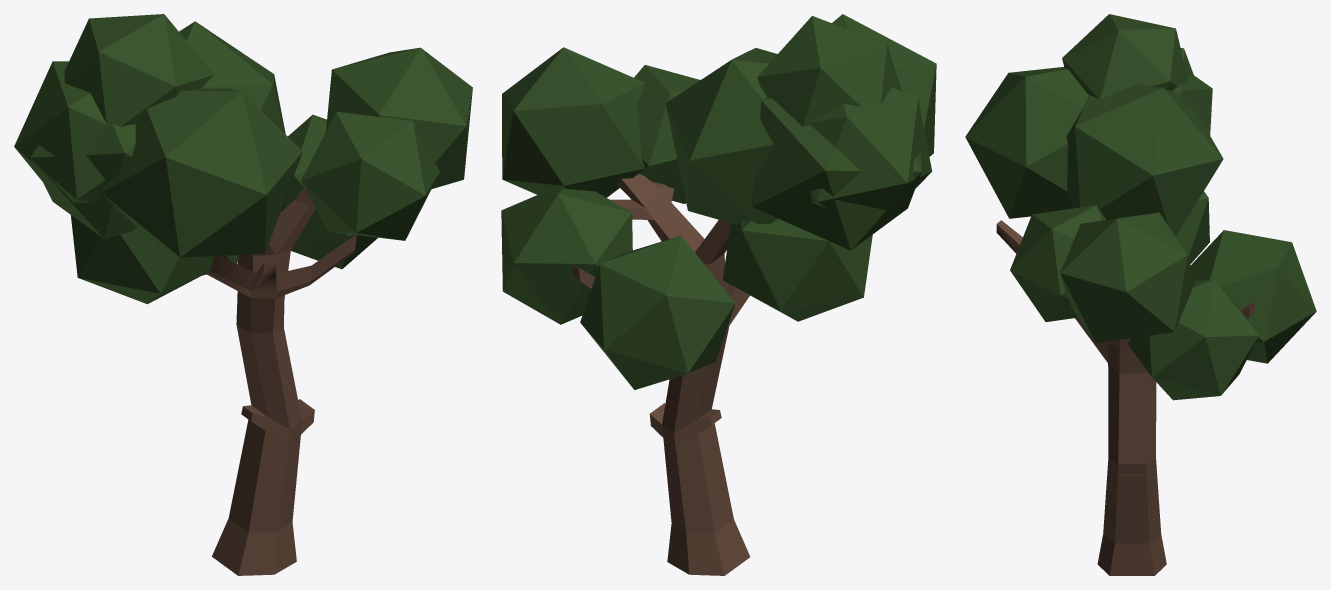
The model's file is n_m_tree02.fbx.
The picture shows the model from 3 angles, left to right: view 1: azimuth 30°, elevation 25°; view 2: azimuth 150°, elevation 25°; view 3: azimuth 270°, elevation 25°; orthographic projection. The views are drawn at different scales.
Visible parts, largest first — view 1: Cube.005|Icosphere.001|Dupli|3, Cube.005, Cube.005|Icosphere.001|Dupli|8, Cube.005|Icosphere.001|Dupli|1, Cube.005|Icosphere.001|Dupli|, Cube.005|Icosphere.001|Dupli|4, Cube.005|Icosphere.001|Dupli|9, Cube.005|Icosphere.001|Dupli|5, Cube.005|Icosphere.001|Dupli|2, Cube.005|Icosphere.001|Dupli|7; view 2: Cube.005, Cube.005|Icosphere.001|Dupli|, Cube.005|Icosphere.001|Dupli|6, Cube.005|Icosphere.001|Dupli|2, Cube.005|Icosphere.001|Dupli|7, Cube.005|Icosphere.001|Dupli|5, Cube.005|Icosphere.001|Dupli|9, Cube.005|Icosphere.001|Dupli|1, Cube.005|Icosphere.001|Dupli|4, Cube.005|Icosphere.001|Dupli|8, Cube.005|Icosphere.001|Dupli|3; view 3: Cube.005|Icosphere.001|Dupli|2, Cube.005|Icosphere.001|Dupli|, Cube.005, Cube.005|Icosphere.001|Dupli|3, Cube.005|Icosphere.001|Dupli|7, Cube.005|Icosphere.001|Dupli|6, Cube.005|Icosphere.001|Dupli|1, Cube.005|Icosphere.001|Dupli|8, Cube.005|Icosphere.001|Dupli|9, Cube.005|Icosphere.001|Dupli|5.
Part boxes in pixels (x1,y1,x2,y2): Cube.005|Icosphere.001|Dupli|3: [101, 88, 302, 257]; Cube.005: [205, 187, 356, 575]; Cube.005|Icosphere.001|Dupli|8: [301, 111, 440, 240]; Cube.005|Icosphere.001|Dupli|1: [64, 14, 213, 130]; Cube.005|Icosphere.001|Dupli|: [326, 47, 472, 189]; Cube.005|Icosphere.001|Dupli|4: [14, 61, 108, 210]; Cube.005|Icosphere.001|Dupli|9: [71, 215, 223, 304]; Cube.005|Icosphere.001|Dupli|5: [30, 124, 137, 239]; Cube.005|Icosphere.001|Dupli|2: [179, 21, 285, 133]; Cube.005|Icosphere.001|Dupli|7: [280, 114, 377, 269]; Cube.005: [572, 174, 750, 575]; Cube.005|Icosphere.001|Dupli|: [502, 47, 645, 197]; Cube.005|Icosphere.001|Dupli|6: [580, 235, 735, 390]; Cube.005|Icosphere.001|Dupli|2: [665, 48, 777, 224]; Cube.005|Icosphere.001|Dupli|7: [501, 188, 632, 324]; Cube.005|Icosphere.001|Dupli|5: [751, 97, 921, 250]; Cube.005|Icosphere.001|Dupli|9: [722, 218, 872, 321]; Cube.005|Icosphere.001|Dupli|1: [757, 16, 901, 126]; Cube.005|Icosphere.001|Dupli|4: [810, 87, 932, 235]; Cube.005|Icosphere.001|Dupli|8: [634, 65, 700, 203]; Cube.005|Icosphere.001|Dupli|3: [832, 14, 936, 156]; Cube.005|Icosphere.001|Dupli|2: [1066, 84, 1223, 236]; Cube.005|Icosphere.001|Dupli|: [1060, 212, 1194, 343]; Cube.005: [996, 220, 1254, 575]; Cube.005|Icosphere.001|Dupli|3: [965, 67, 1088, 218]; Cube.005|Icosphere.001|Dupli|7: [1128, 279, 1258, 400]; Cube.005|Icosphere.001|Dupli|6: [1190, 230, 1316, 363]; Cube.005|Icosphere.001|Dupli|1: [1062, 14, 1188, 99]; Cube.005|Icosphere.001|Dupli|8: [1010, 205, 1106, 321]; Cube.005|Icosphere.001|Dupli|9: [1176, 191, 1209, 263]; Cube.005|Icosphere.001|Dupli|5: [1172, 75, 1212, 135].
Bounding box in the file's own units: 703 × 885 × 572.
